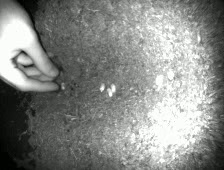corn: (152, 72, 167, 87), (98, 80, 107, 95), (108, 81, 118, 94), (105, 86, 114, 99), (59, 80, 67, 92)
